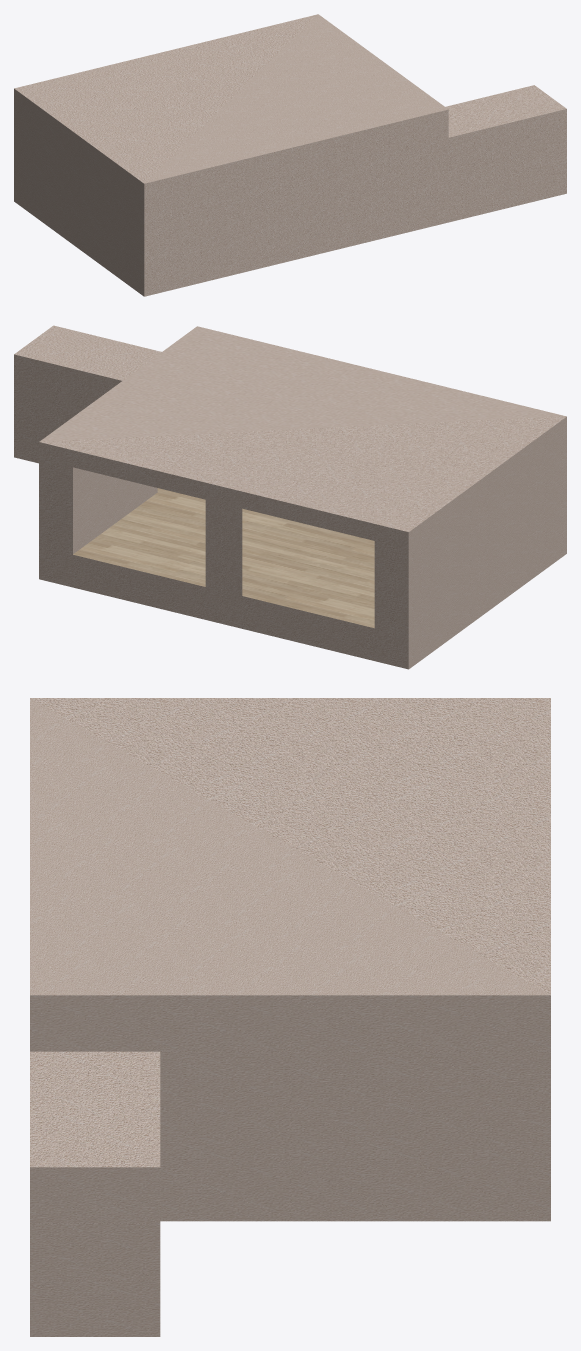
Rendered from playerlobbywroof.fbx.
3 views of the same model, one above another, from view 1: azimuth 30°, elevation 25°; view 2: azimuth 150°, elevation 25°; view 3: azimuth 270°, elevation 25° (orthographic). The views are drawn at different scales.
Parts seen in each view (by area): view 1: Cube; view 2: Cube; view 3: Cube.
Part boxes in pixels (<box>): Cube: <box>14,14,566,296</box>; Cube: <box>14,325,566,669</box>; Cube: <box>30,698,550,1336</box>.
Bounding box in the file's own units: 775 × 198 × 414.
2 materials, 2 textured.
